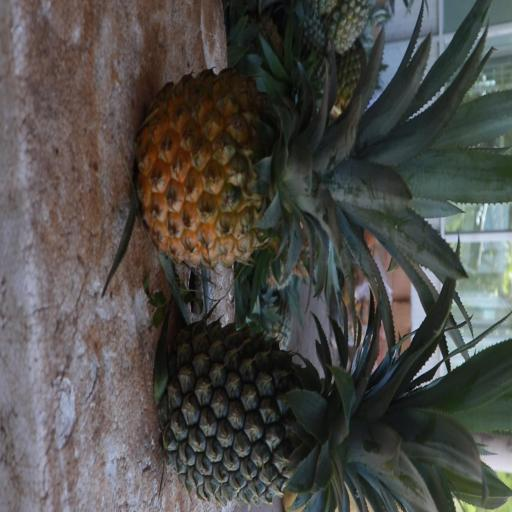Pineapple - v8 v1: (139, 71, 447, 267)
